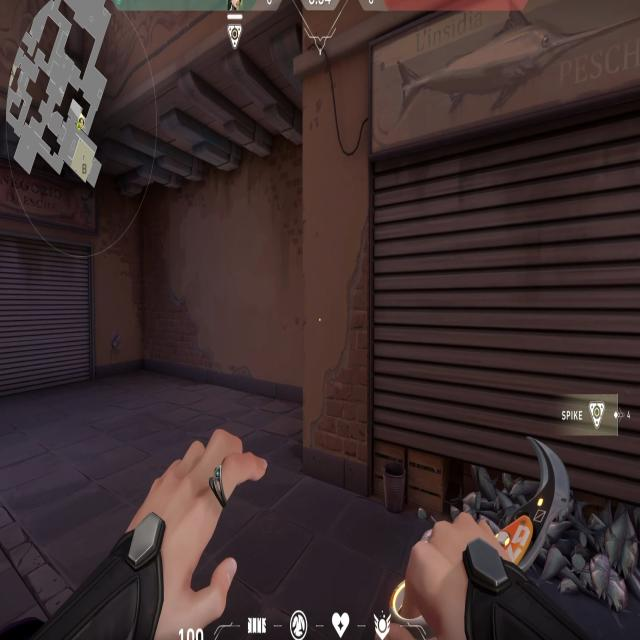B_Main_Corner: (301, 14, 640, 499)
